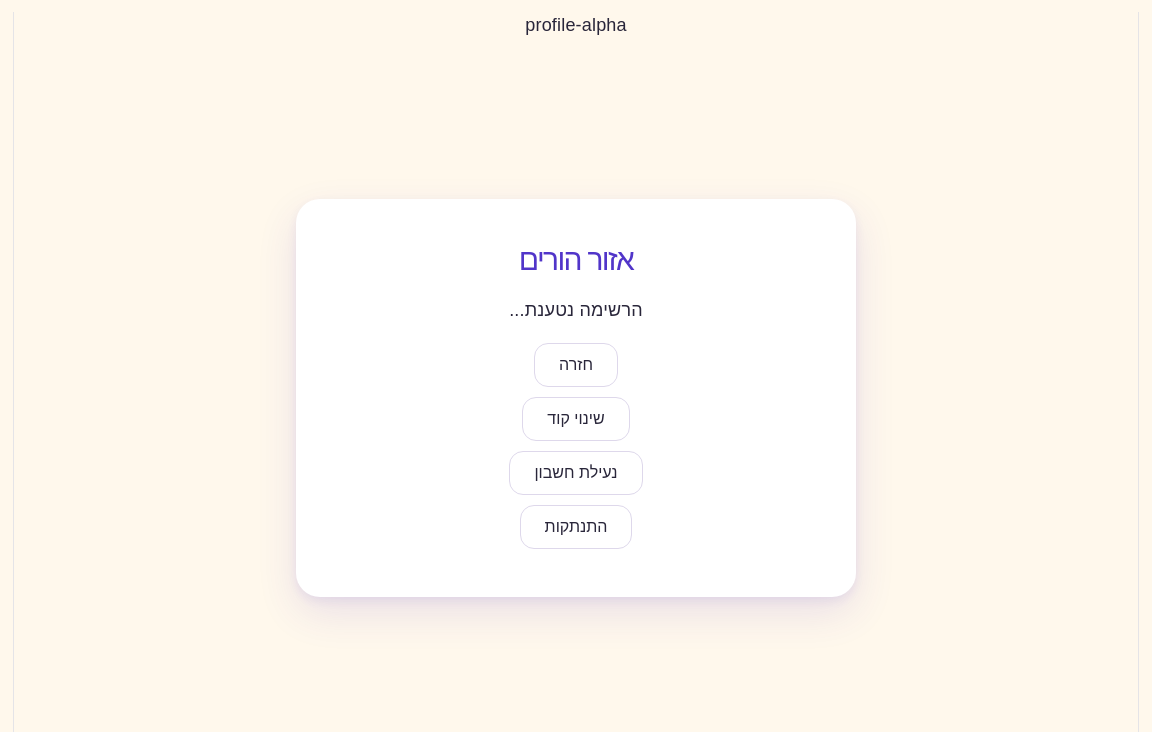
Test: ParentZonePage — gate hand-off › changes the PIN with the current PIN and confirms it
Click the button "שינוי קוד" at [576, 419], box x1=522 y1=397 x2=630 y2=441
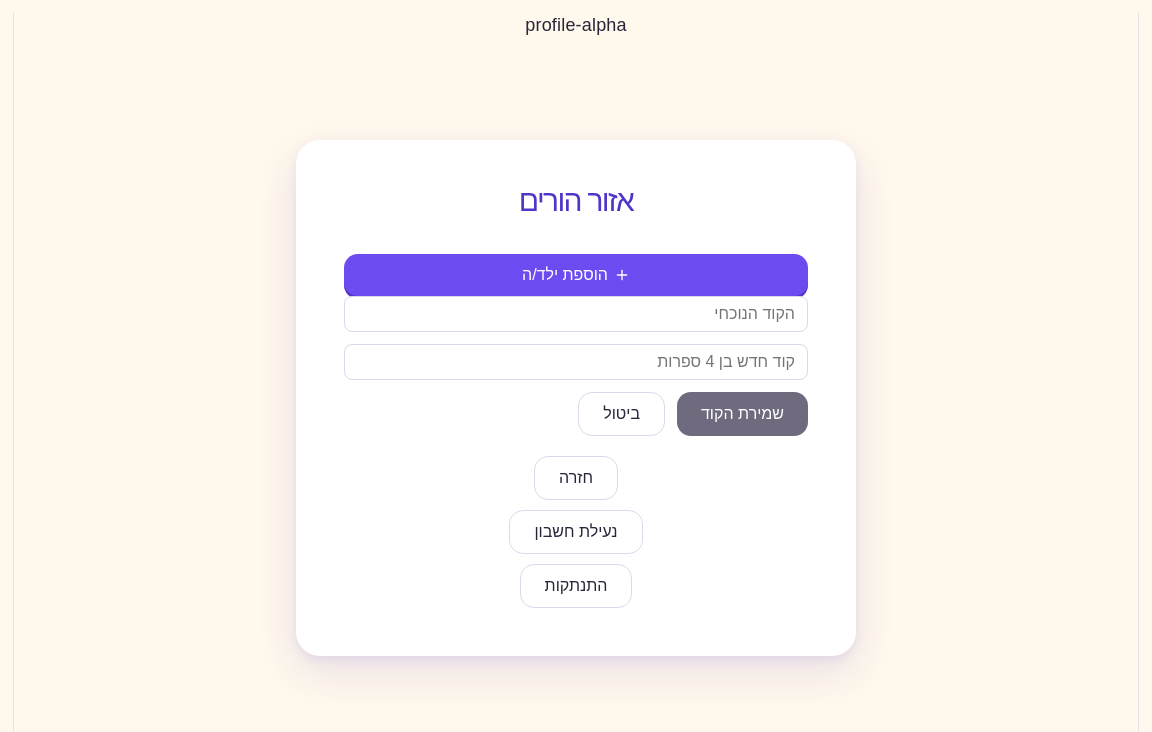
Type "1234" into the password field labelled "הקוד הנוכחי" at [576, 314], box x1=344 y1=296 x2=808 y2=332
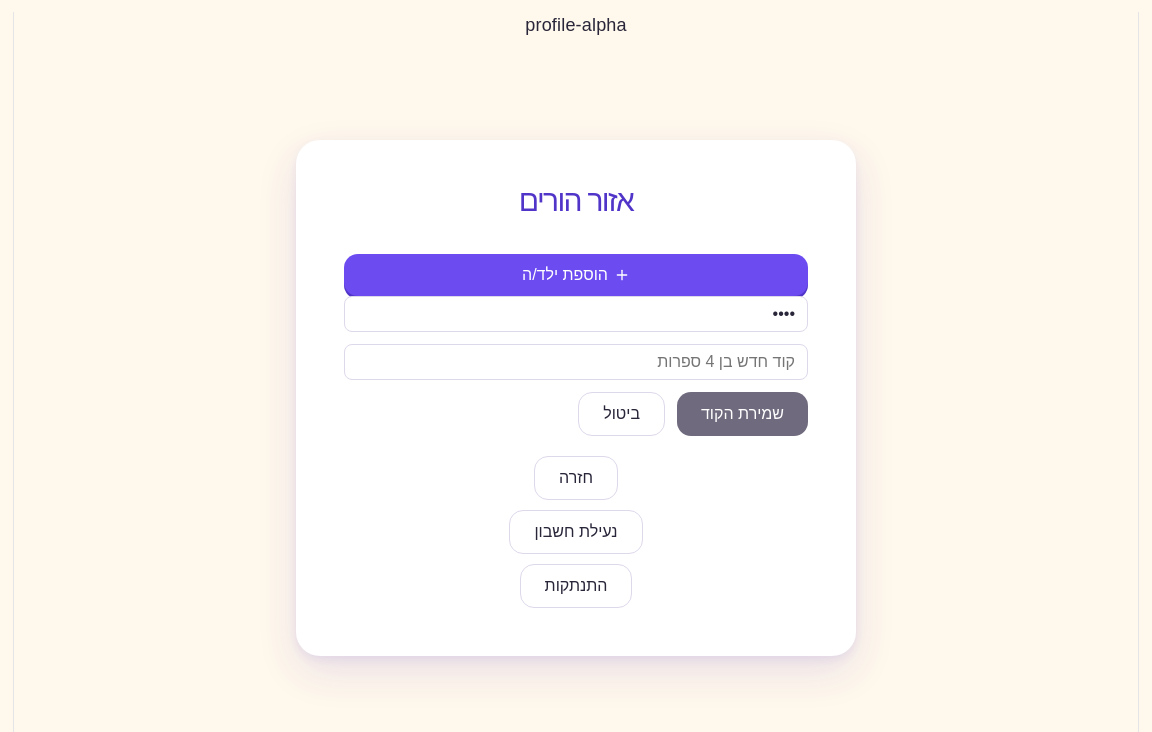
Type "5678" into the password field labelled "קוד חדש בן 4 ספרות" at [576, 362], box x1=344 y1=344 x2=808 y2=380
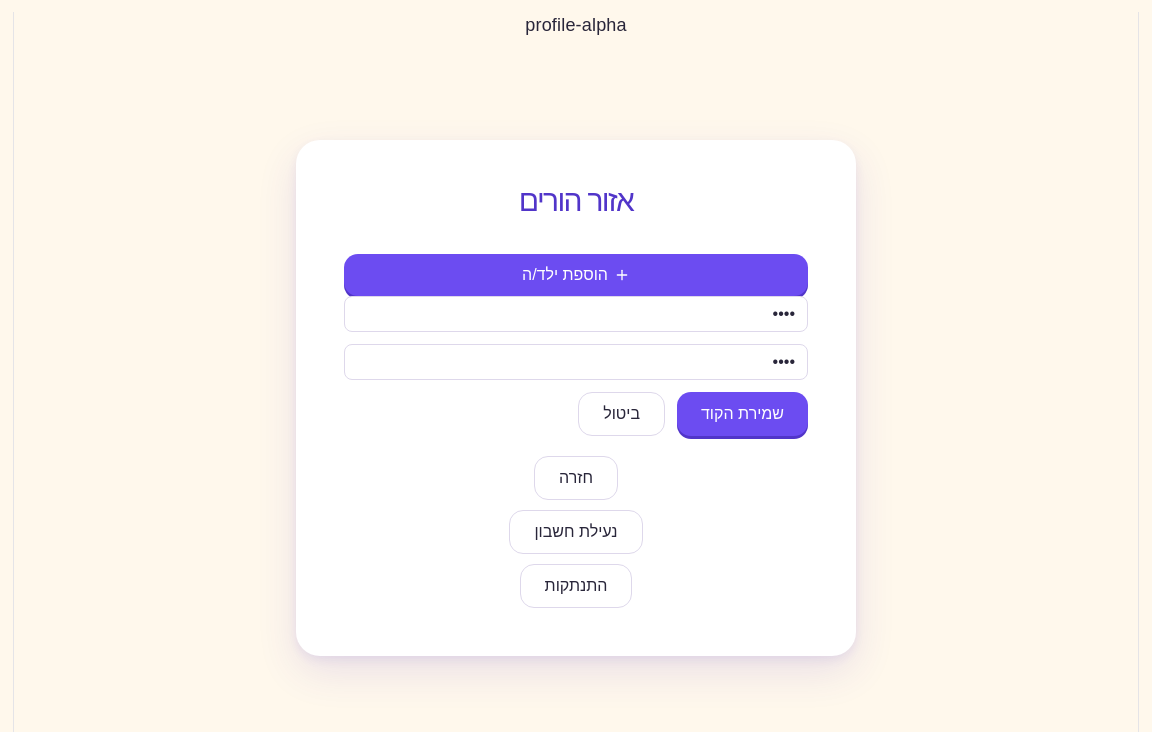
Click the button "שמירת הקוד" at [742, 414], box x1=677 y1=392 x2=808 y2=436
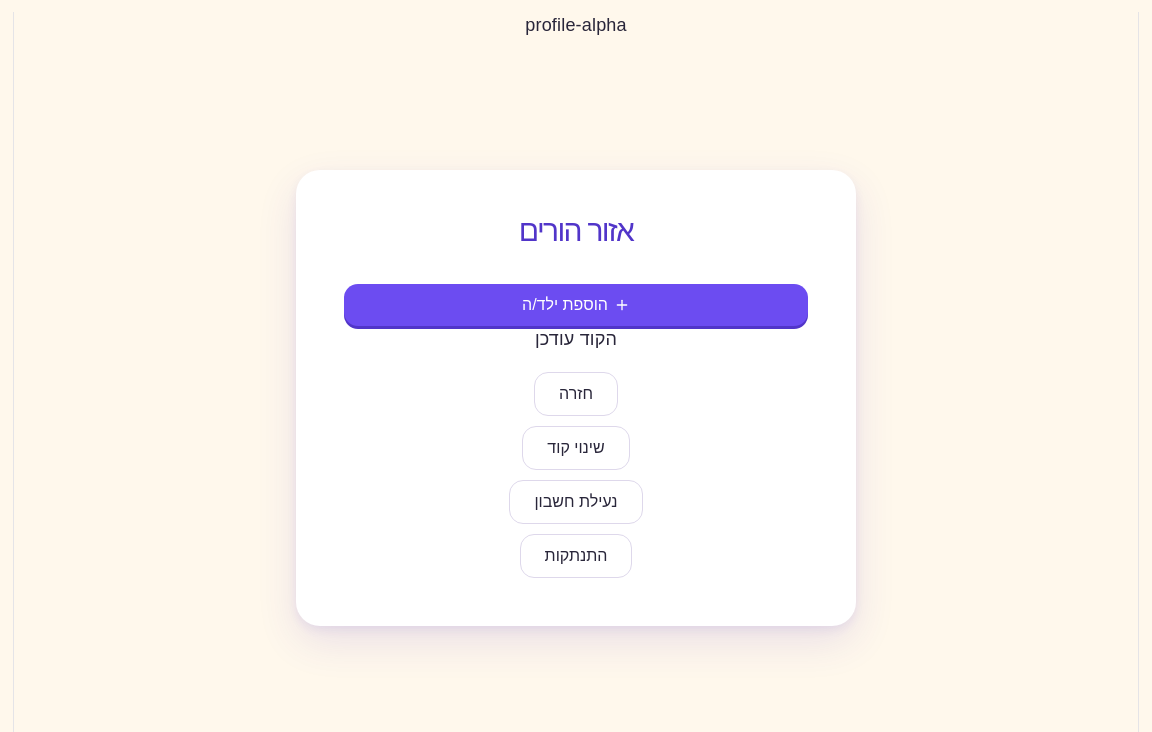
Now the text "הקוד עודכן" is shown, box x1=535 y1=329 x2=617 y2=349
